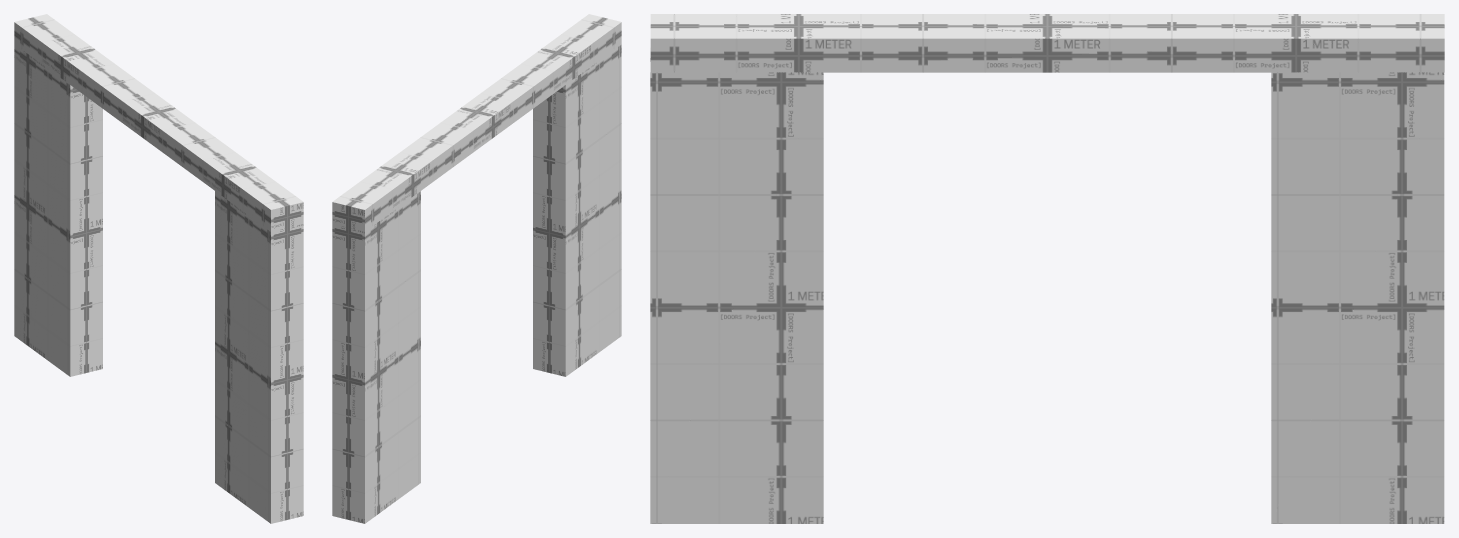
The model's file is SlidingDoubleDoorFrameModel.obj.
The picture shows the model from 3 angles, left to right: view 1: azimuth 30°, elevation 25°; view 2: azimuth 150°, elevation 25°; view 3: azimuth 270°, elevation 25°; orthographic projection. The views are drawn at different scales.
Parts seen in each view (by area): view 1: SlidingDoubleDoorFrame; view 2: SlidingDoubleDoorFrame; view 3: SlidingDoubleDoorFrame.
Part boxes in pixels (x1=…): SlidingDoubleDoorFrame: x1=14, y1=14, x2=303, y2=523; SlidingDoubleDoorFrame: x1=332, y1=14, x2=621, y2=523; SlidingDoubleDoorFrame: x1=650, y1=14, x2=1444, y2=523.
Size of the model in its own units: 0.2351 by 2.15 by 3.19.
